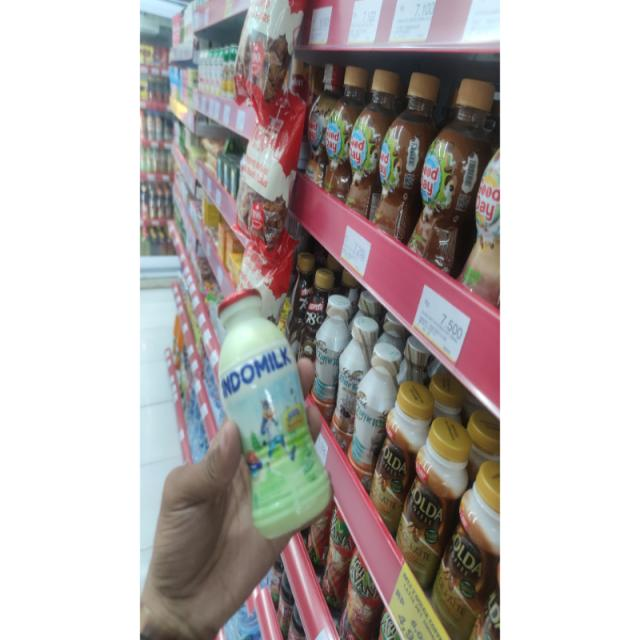botol: (182, 257, 350, 561)
